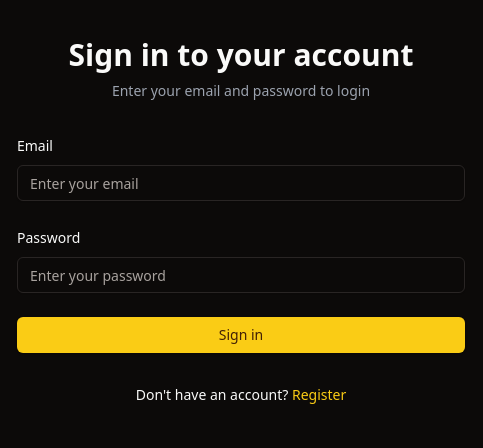
Test: LoginPage Unit Tests › validates form inputs
Step 1. Click the button "Sign in" → (241,335), box 17,317 -> 465,353
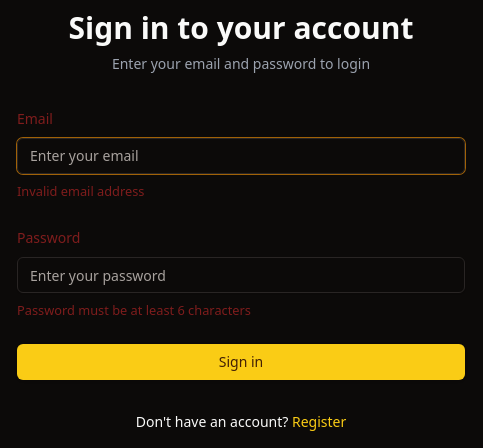
expect the text "Invalid email address" is shown: met, box 17,182 -> 144,200
expect the text "Password must be at least 6 characters" is shown: met, box 17,301 -> 251,319
